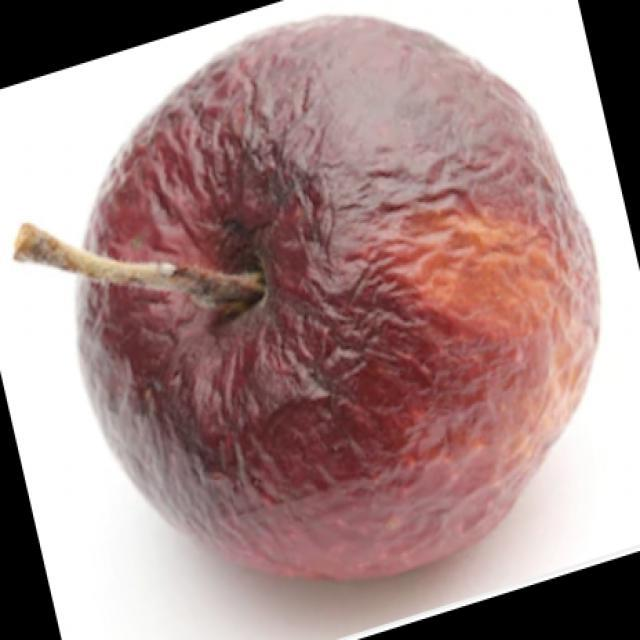Rotten: (92, 25, 580, 593)
